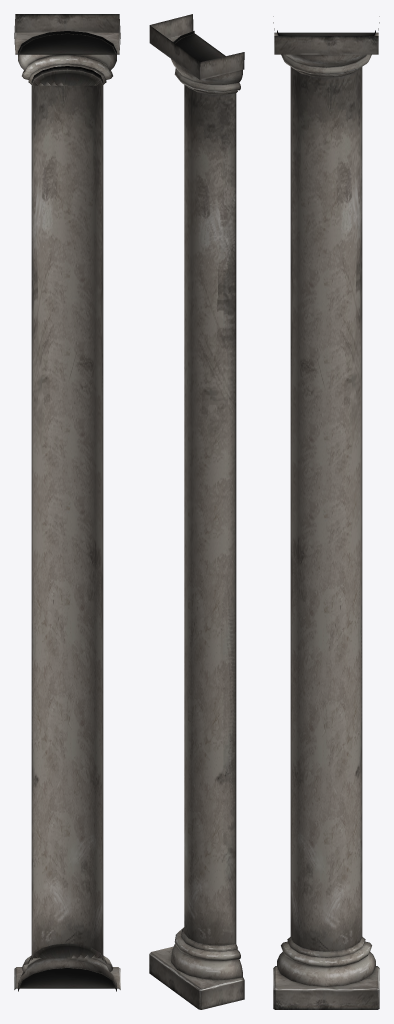
File: colonne01.fbx
The picture shows the model from 3 angles, left to right: view 1: azimuth 90°, elevation 25°; view 2: azimuth 210°, elevation 25°; view 3: azimuth 270°, elevation 25°; orthographic projection. The views are drawn at different scales.
Visible parts, largest first — view 1: polySurface309; view 2: polySurface309; view 3: polySurface309.
Boxes of the visible parts, x1=… form: polySurface309: x1=14, y1=14, x2=120, y2=991; polySurface309: x1=149, y1=14, x2=244, y2=1009; polySurface309: x1=273, y1=16, x2=379, y2=1009.
Size of the model in its own units: 34.67 by 701 by 69.34.
